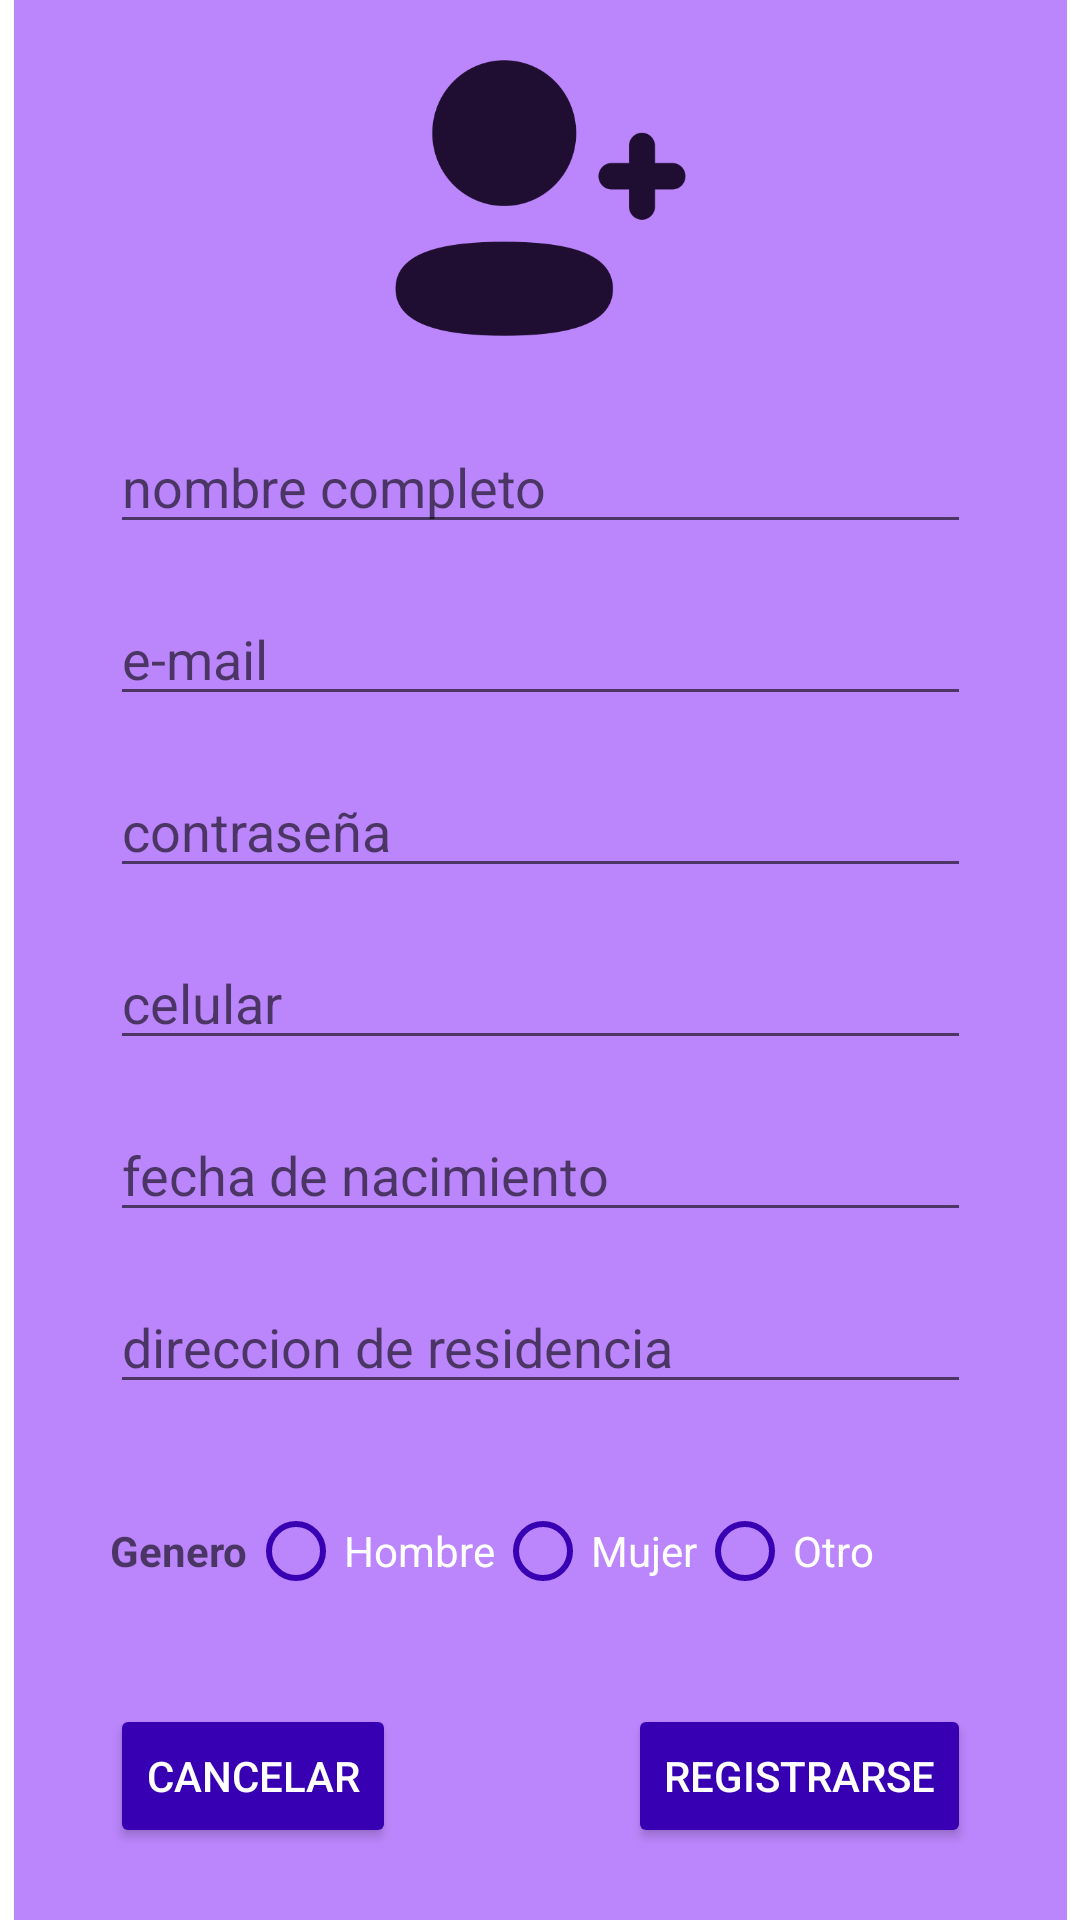

Point at icon controls on the screen. Image size 1080×1920, points as (x,y).
add user: (540,198)
